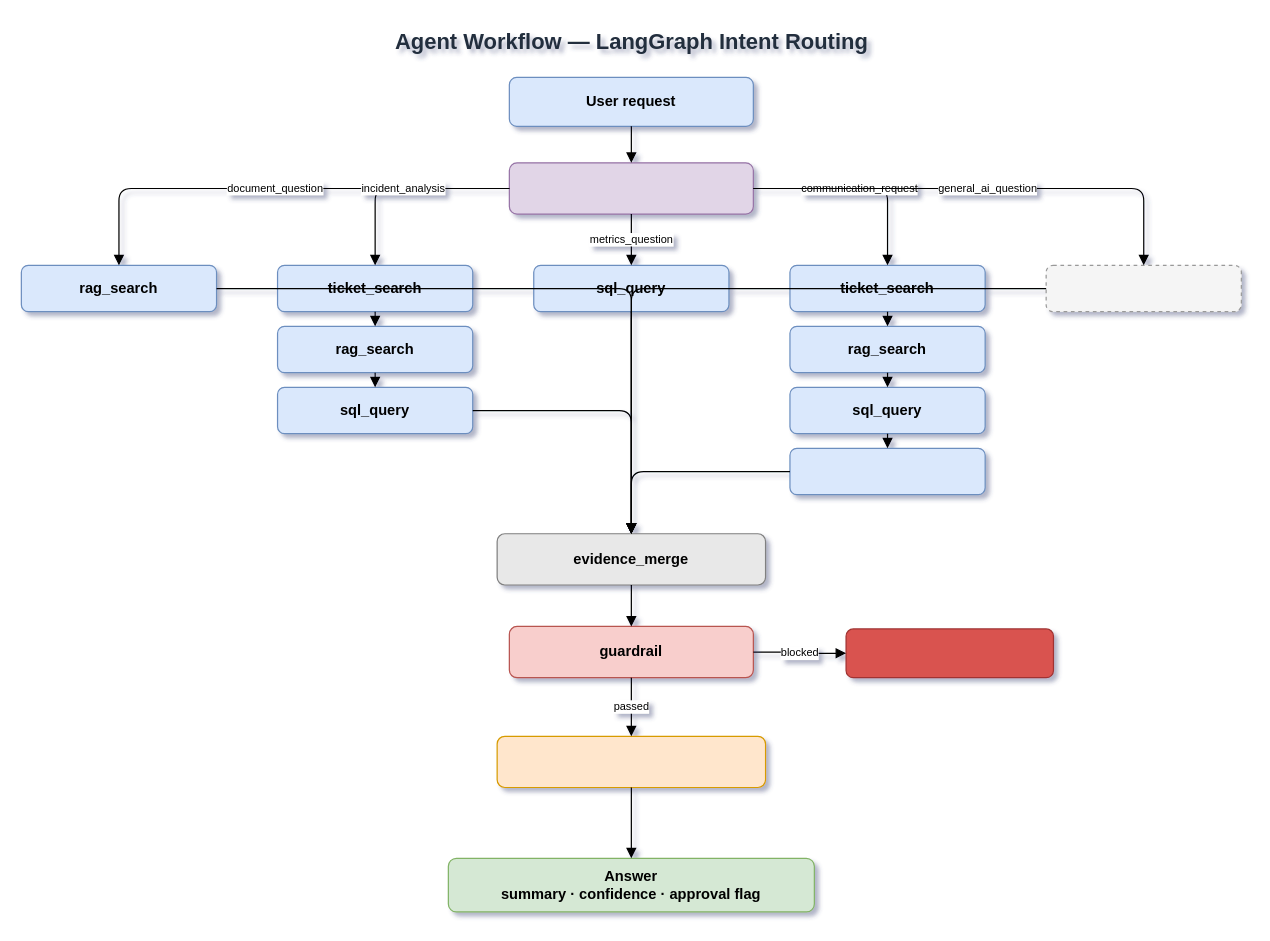
Image size: 1270x941. Some labels were removed from this diagram. The shapes that lost their labels are listed below. From the top down, each one's centre as x and y in pixels, then its label:
At pixel 630 188: "classify_intent".
At pixel 1143 288: "(no tools)".
At pixel 887 471: "teams_draft".
At pixel 949 653: "Rejected (injection)".
At pixel 631 761: "final_response calls Amazon Bedrock".
